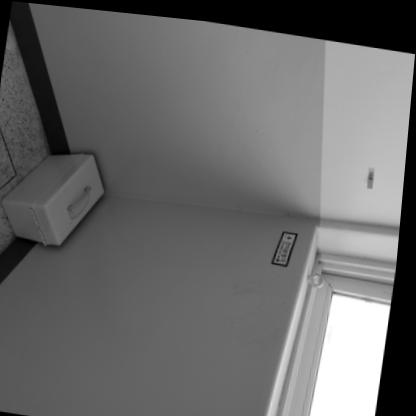DDL: (0, 140, 112, 250)
